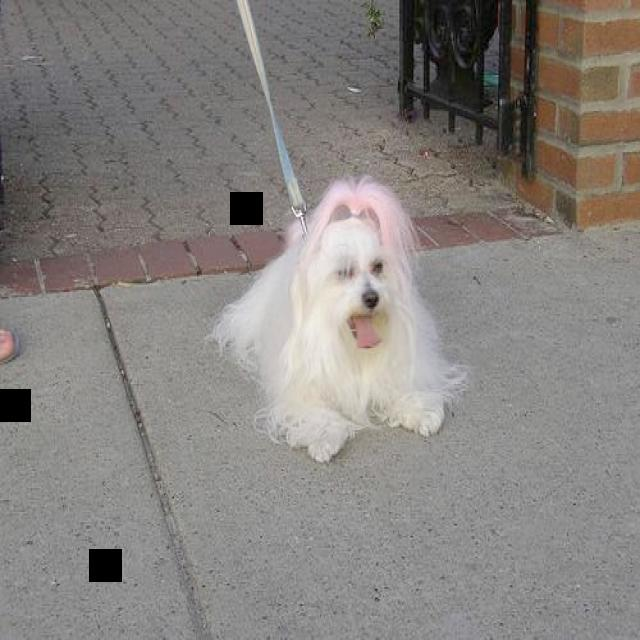adult_dog: (210, 177, 471, 465)
